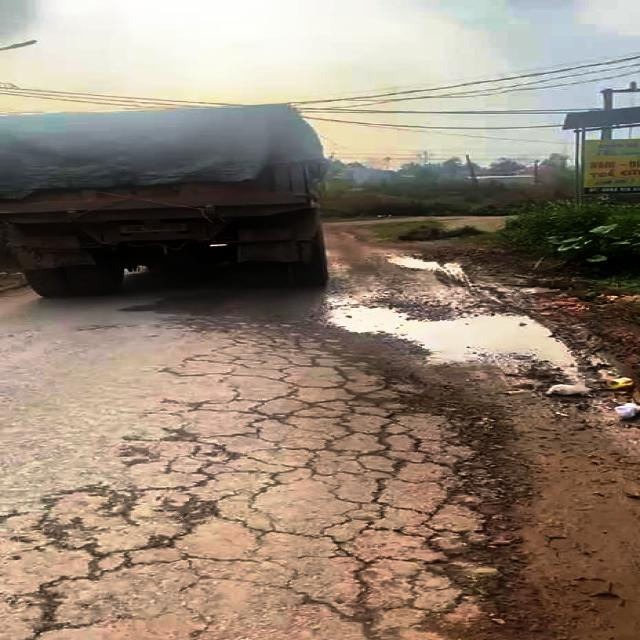pothole: (324, 300, 559, 366)
